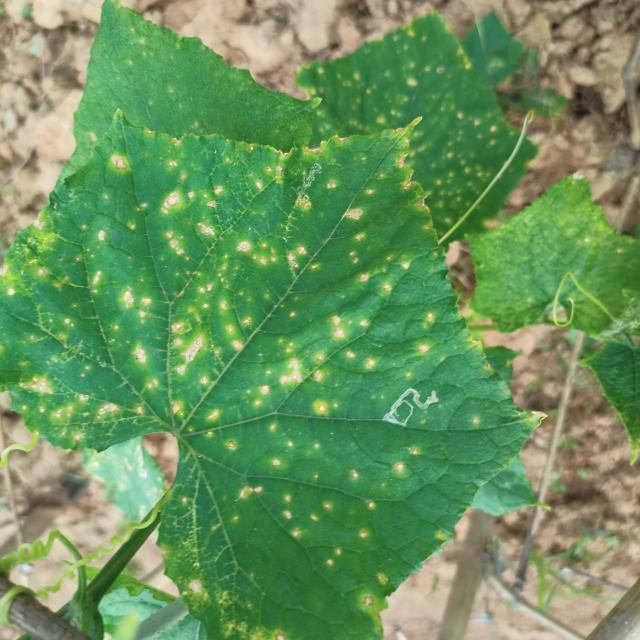disease_cucumber: (32, 124, 450, 596)
